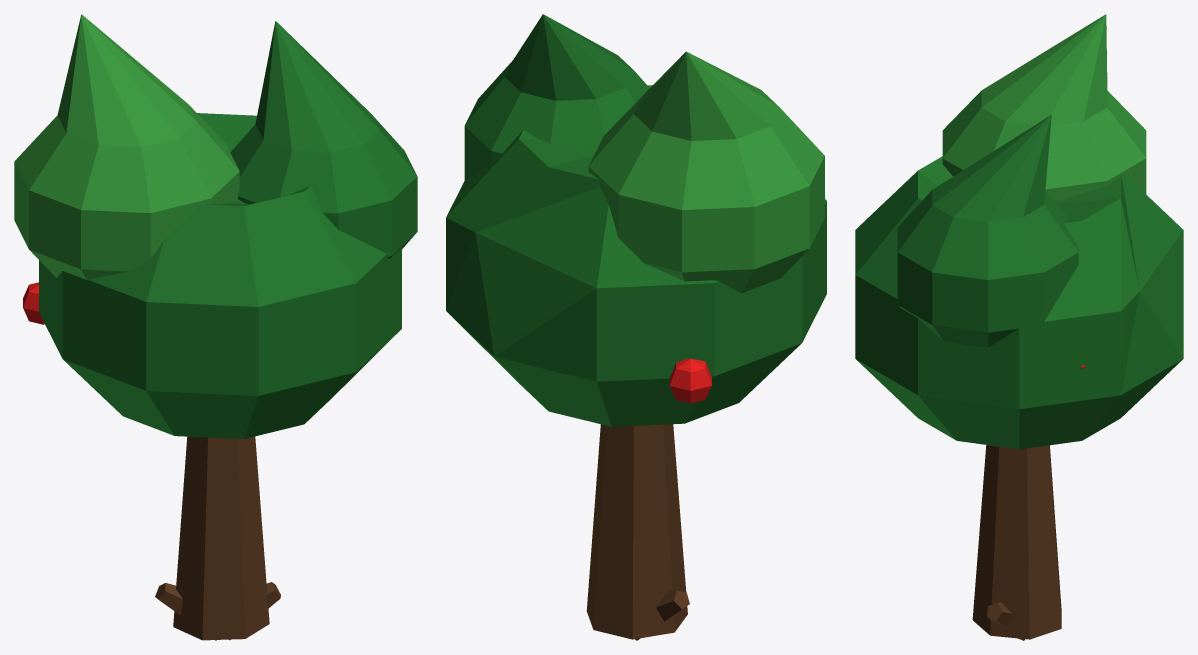
The model's file is tree.obj.
The picture shows the model from 3 angles, left to right: view 1: azimuth 30°, elevation 25°; view 2: azimuth 150°, elevation 25°; view 3: azimuth 270°, elevation 25°; orthographic projection. The views are drawn at different scales.
Parts seen in each view (by area): view 1: tree; view 2: tree; view 3: tree.
Boxes of the visible parts, <box> form: tree: <box>14,14,417,640</box>; tree: <box>446,14,826,640</box>; tree: <box>855,14,1183,640</box>.
Bounding box in the file's own units: 1.21 × 2.04 × 1.05.
